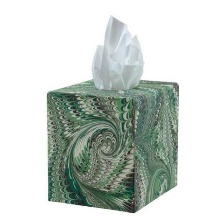plastic_box: (38, 72, 185, 217)
tissue: (86, 10, 149, 94)
